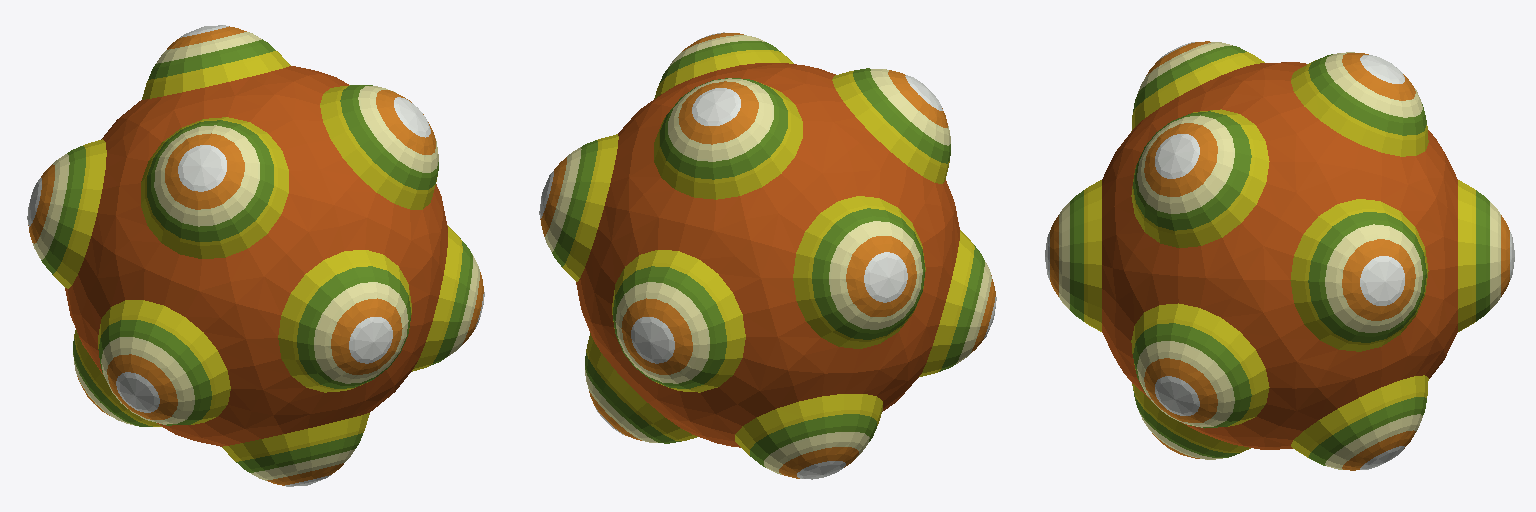
3 views of the same model, side by side, from view 1: azimuth 30°, elevation 25°; view 2: azimuth 150°, elevation 25°; view 3: azimuth 270°, elevation 25° (orthographic).
Visible parts, largest first — view 1: core_03_0; view 2: core_03_0; view 3: core_03_0.
Part boxes in pixels (x1,y1,x2,y2): core_03_0: (27,25,484,486); core_03_0: (539,32,996,479); core_03_0: (1045,41,1514,470).
Bounding box in the file's own units: 0.0478 × 0.0494 × 0.0537.
Materials: 1 (1 with a texture image).